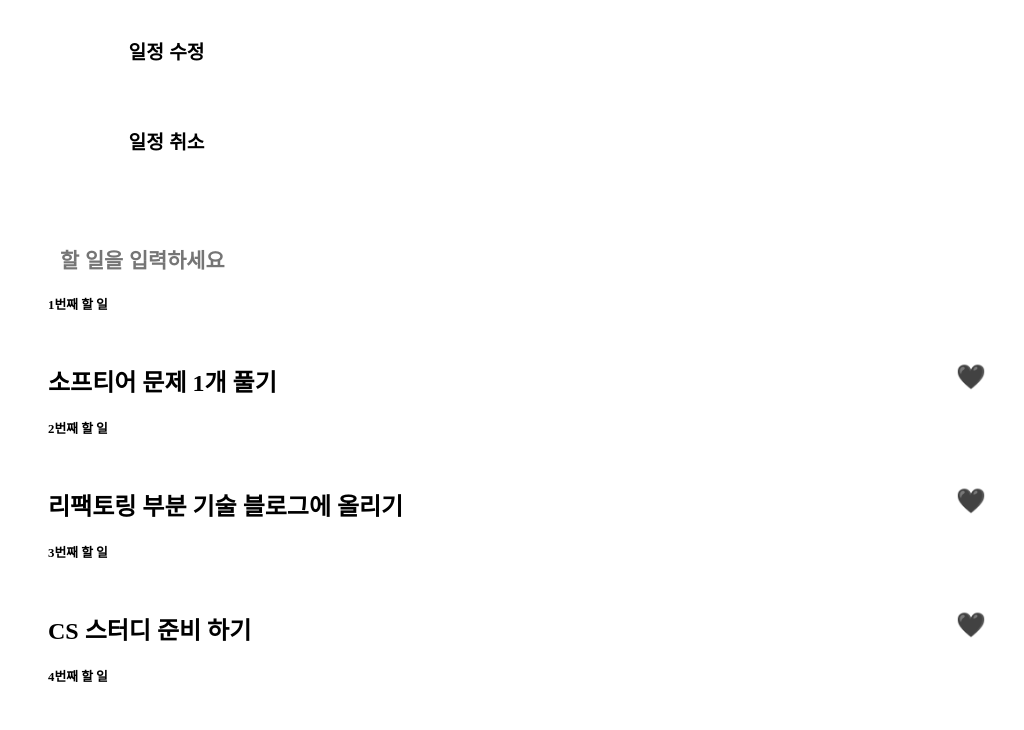
Scenario: 일정 수정 버튼 클릭 시 동작
(page scrolled)
Click the element with test id "todo-list-1": x=81, y=305 x1=28 y1=294 x2=996 y2=398
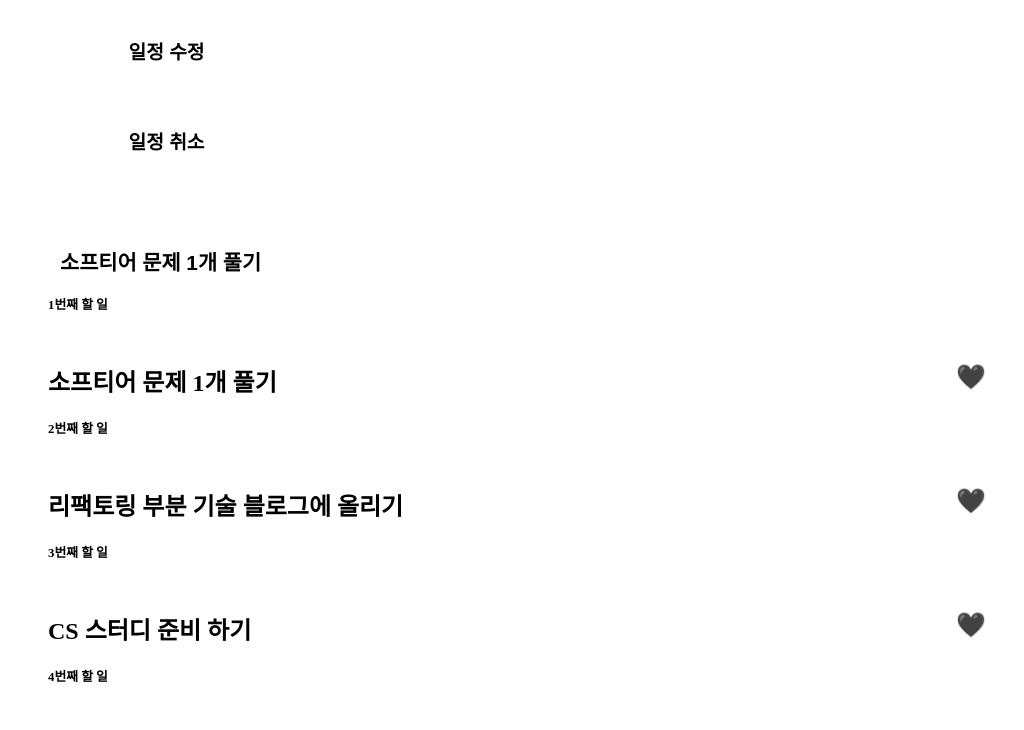
Replace the text in the field with test id "todo-updated" with "수정된 할 일": x=347, y=261 x1=28 y1=248 x2=665 y2=274
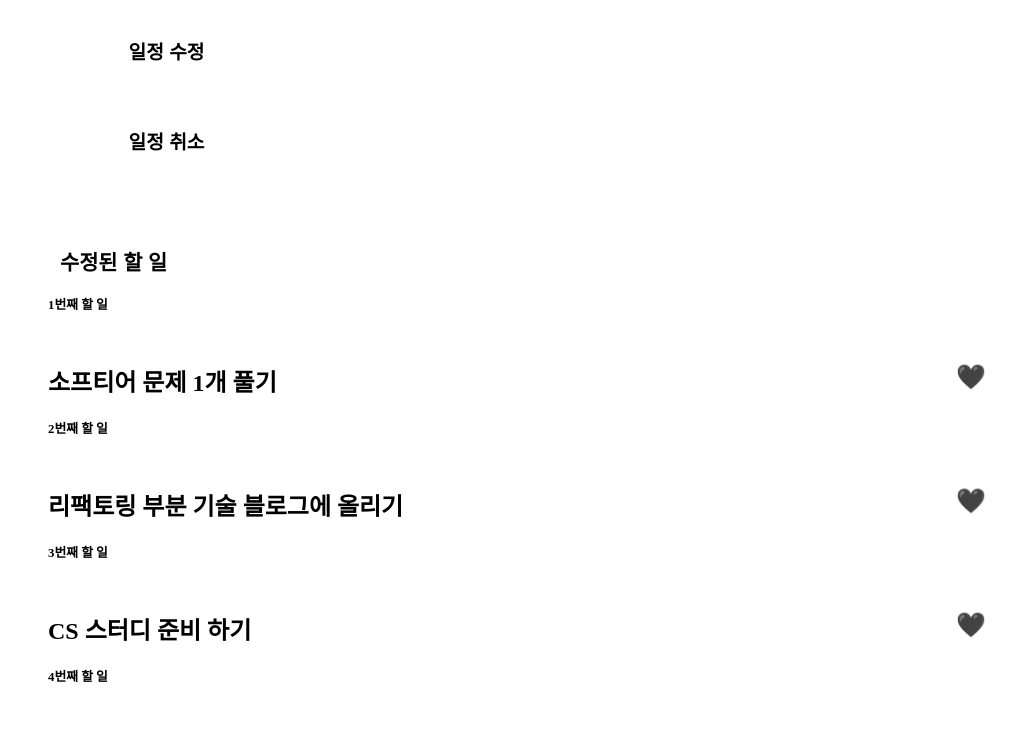
Click the button "일정 수정": x=167, y=51 x1=23 y1=11 x2=310 y2=91
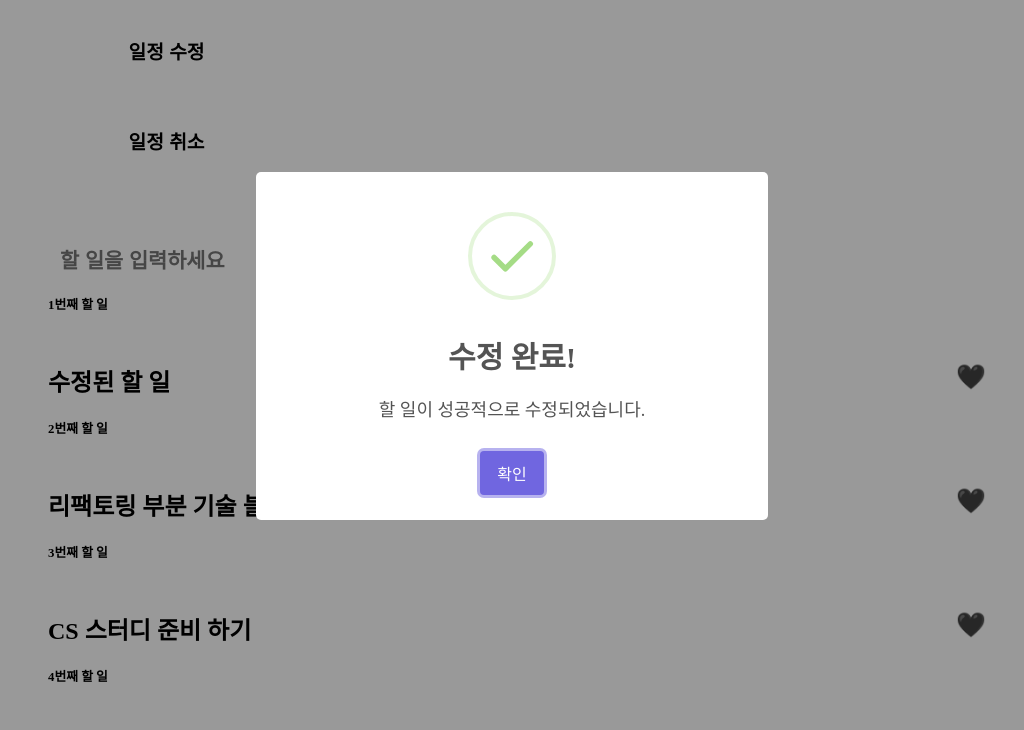
Expected: the text "수정된 할 일" is shown, x1=48 y1=363 x2=170 y2=398
